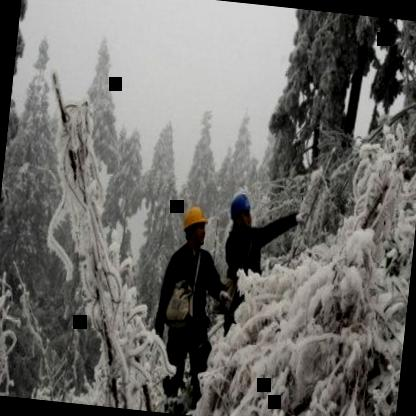helmet: (178, 199, 211, 250), (228, 190, 255, 234)
